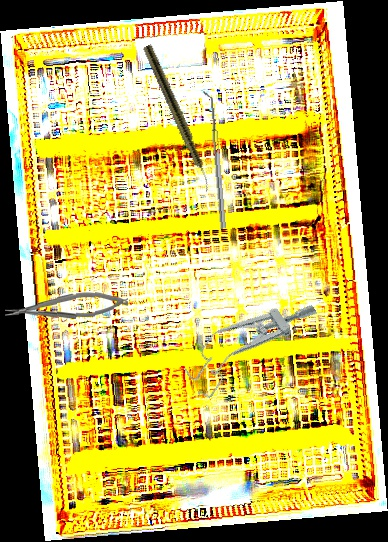Handpiece: (140, 43, 217, 195)
Needle Holder: (4, 289, 129, 323)
Spatula Surgical: (202, 89, 227, 230)
Speculum: (175, 279, 323, 402)
